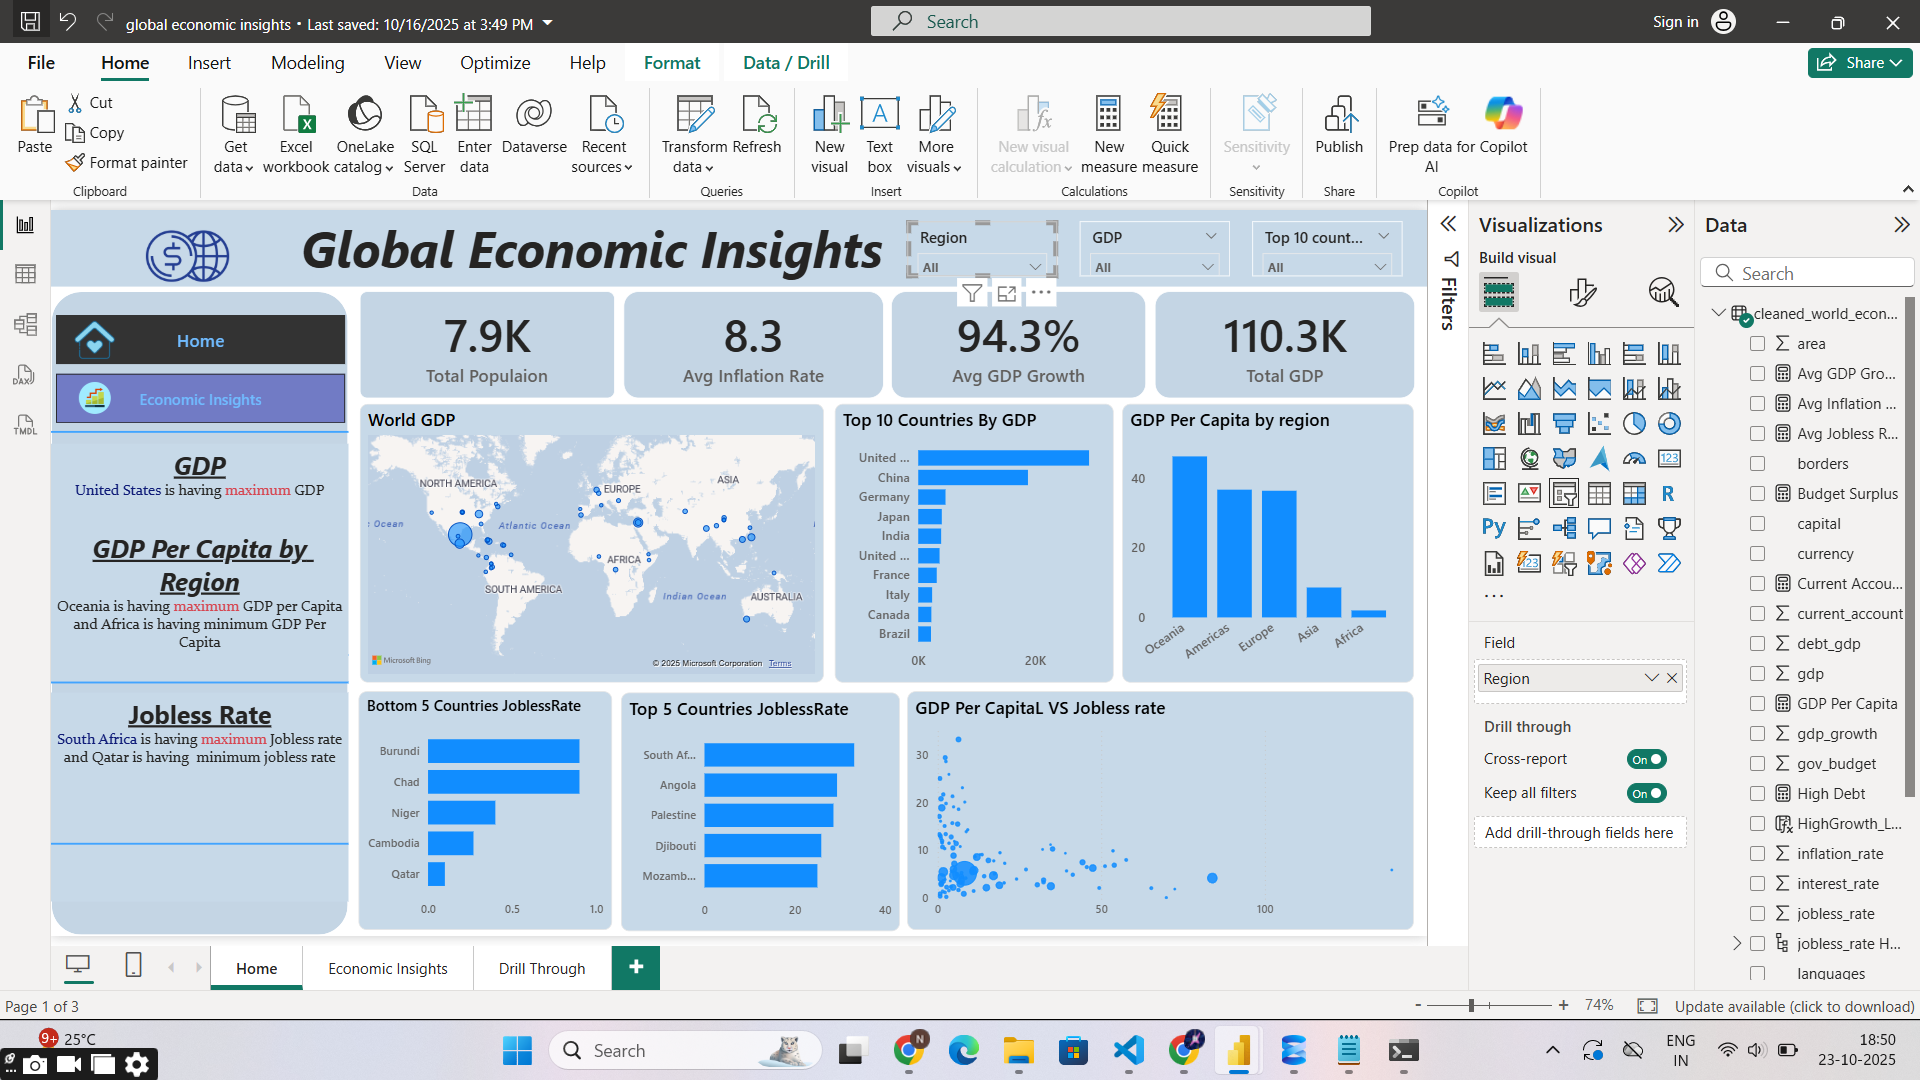

The page's visual inventory and layout, read from the dashboard file:
{"tool":"powerbi","page":{"name":"Home","canvas":[1480,780],"ordinal":0},"visuals":[{"type":"card","fields":{"Values":["cleaned_world_economics.Total Populaion"]},"box":[332.4,87.8,274.3,114.9],"z":0},{"type":"card","fields":{"Values":["cleaned_world_economics.Avg GDP Growth"]},"box":[904.1,87.4,274.3,115],"z":1000},{"type":"card","fields":{"Values":["cleaned_world_economics.Total GDP"]},"box":[1187.2,87.4,279.7,115],"z":2000},{"type":"shape","box":[0,87.8,320.3,693.2],"z":3000},{"type":"card","fields":{"Values":["cleaned_world_economics.Avg Inflation Rate"]},"box":[615.6,87.4,279.7,115],"z":4000},{"type":"map","title":"World GDP","fields":{"Category":["cleaned_world_economics.name"],"Size":["Sum(cleaned_world_economics.gdp)"]},"box":[332.1,208.4,498.8,299.8],"z":5000},{"type":"barChart","title":"Top 10 Countries By GDP","fields":{"Y":["Sum(cleaned_world_economics.gdp)"],"Category":["cleaned_world_economics.name"]},"box":[842.5,207.8,299.9,299.9],"z":6000},{"type":"columnChart","fields":{"Y":["cleaned_world_economics.GDP Per Capita"],"Category":["cleaned_world_economics.region"]},"box":[1152.7,208.1,313.5,300],"z":7000},{"type":"scatterChart","title":"GDP Per CapitaL VS Jobless rate","fields":{"X":["cleaned_world_economics.GDP Per Capita"],"Size":["Sum(cleaned_world_economics.population)"],"Y":["cleaned_world_economics.jobless_rate"]},"box":[921.6,517.6,544.6,256.8],"z":8000},{"type":"shape","box":[0,87.4,320,302.5],"z":9000},{"type":"textbox","box":[0,519,320,224.5],"z":10000},{"type":"shape","box":[0,328.1,320,301.2],"z":11000},{"type":"textbox","box":[0,251.4,320,256.8],"z":12000},{"type":"barChart","title":"Top 5 Countries JoblessRate","fields":{"Category":["cleaned_world_economics.name"],"Y":["Sum(cleaned_world_economics.jobless_rate)"]},"box":[613.5,518.9,300,256.8],"z":13000},{"type":"barChart","title":"Bottom 5 Countries JoblessRate","fields":{"Category":["cleaned_world_economics.name"],"Y":["Sum(cleaned_world_economics.jobless_rate)"]},"box":[331.1,517.6,273,256.8],"z":14000},{"type":"shape","box":[0,583.5,320,196.3],"z":15000},{"type":"shape","box":[0,352.3,320,311.9],"z":16000},{"type":"textbox","box":[0,0,1480.3,82.5],"z":17000},{"type":"slicer","fields":{"Values":["cleaned_world_economics.region"]},"box":[921,12.1,161.3,59.2],"z":18000},{"type":"slicer","fields":{"Values":["cleaned_world_economics.gdp"]},"box":[1106.5,12.1,161.3,59.2],"z":19000},{"type":"slicer","fields":{"Values":["cleaned_world_economics.gdp"]},"box":[1292,12.1,161.3,59.2],"z":20000},{"type":"image","box":[56.5,0,180.2,99.5],"z":21000},{"type":"pageNavigator","box":[5.4,112.9,311,53.8],"z":22000},{"type":"pageNavigator","box":[5.4,176.1,311,53.8],"z":23000},{"type":"image","box":[16.1,112.9,61.8,53.8],"z":24000},{"type":"image","box":[10.8,180.2,72.6,44.4],"z":25000}]}

Visuals, with their boxes on the page's 1480x780 design canvas (x1, y1, x2, y2). These are canvas units, not pixel positions in the 1920x1080 screenshot, which may show the page scaled, cropped or inside an application window:
card - cleaned_world_economics.Total Populaion: [left=332, top=88, right=607, bottom=203]
card - cleaned_world_economics.Avg GDP Growth: [left=904, top=87, right=1178, bottom=202]
card - cleaned_world_economics.Total GDP: [left=1187, top=87, right=1467, bottom=202]
shape: [left=0, top=88, right=320, bottom=781]
card - cleaned_world_economics.Avg Inflation Rate: [left=616, top=87, right=895, bottom=202]
"World GDP" map: [left=332, top=208, right=831, bottom=508]
"Top 10 Countries By GDP" barChart: [left=842, top=208, right=1142, bottom=508]
columnChart - cleaned_world_economics.GDP Per Capita x cleaned_world_economics.region: [left=1153, top=208, right=1466, bottom=508]
"GDP Per CapitaL VS Jobless rate" scatterChart: [left=922, top=518, right=1466, bottom=774]
shape: [left=0, top=87, right=320, bottom=390]
textbox: [left=0, top=519, right=320, bottom=744]
shape: [left=0, top=328, right=320, bottom=629]
textbox: [left=0, top=251, right=320, bottom=508]
"Top 5 Countries JoblessRate" barChart: [left=614, top=519, right=914, bottom=776]
"Bottom 5 Countries JoblessRate" barChart: [left=331, top=518, right=604, bottom=774]
shape: [left=0, top=584, right=320, bottom=780]
shape: [left=0, top=352, right=320, bottom=664]
textbox: [left=0, top=0, right=1480, bottom=82]
slicer - cleaned_world_economics.region: [left=921, top=12, right=1082, bottom=71]
slicer - cleaned_world_economics.gdp: [left=1106, top=12, right=1268, bottom=71]
slicer - cleaned_world_economics.gdp: [left=1292, top=12, right=1453, bottom=71]
image: [left=56, top=0, right=237, bottom=100]
pageNavigator: [left=5, top=113, right=316, bottom=167]
pageNavigator: [left=5, top=176, right=316, bottom=230]
image: [left=16, top=113, right=78, bottom=167]
image: [left=11, top=180, right=83, bottom=225]
